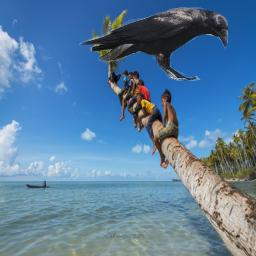Crow: (79, 7, 228, 81)
